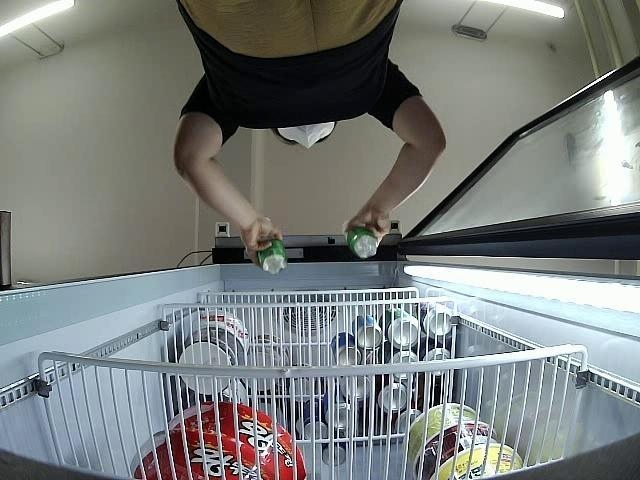18_trevi: (340, 224, 380, 257), (256, 238, 287, 278)
